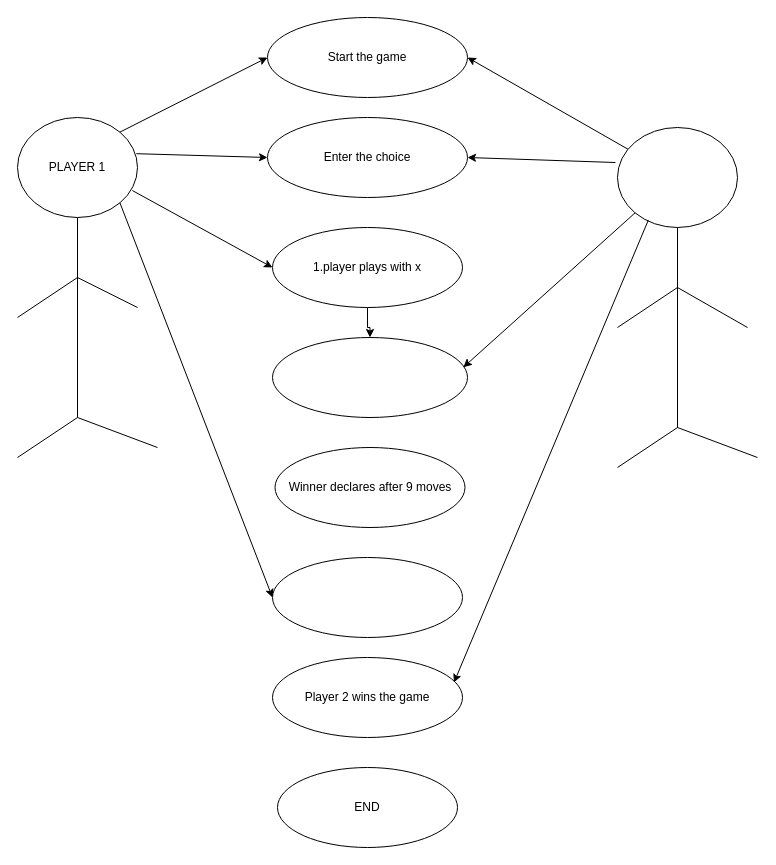
Image size: 776x865. Some labels were removed from this diagram. Each missing label, with the centre of its shape:
2. player play with 0: the point at 370,377
Player 1 wins the game: the point at 367,597
PLAYER 2: the point at 677,177
